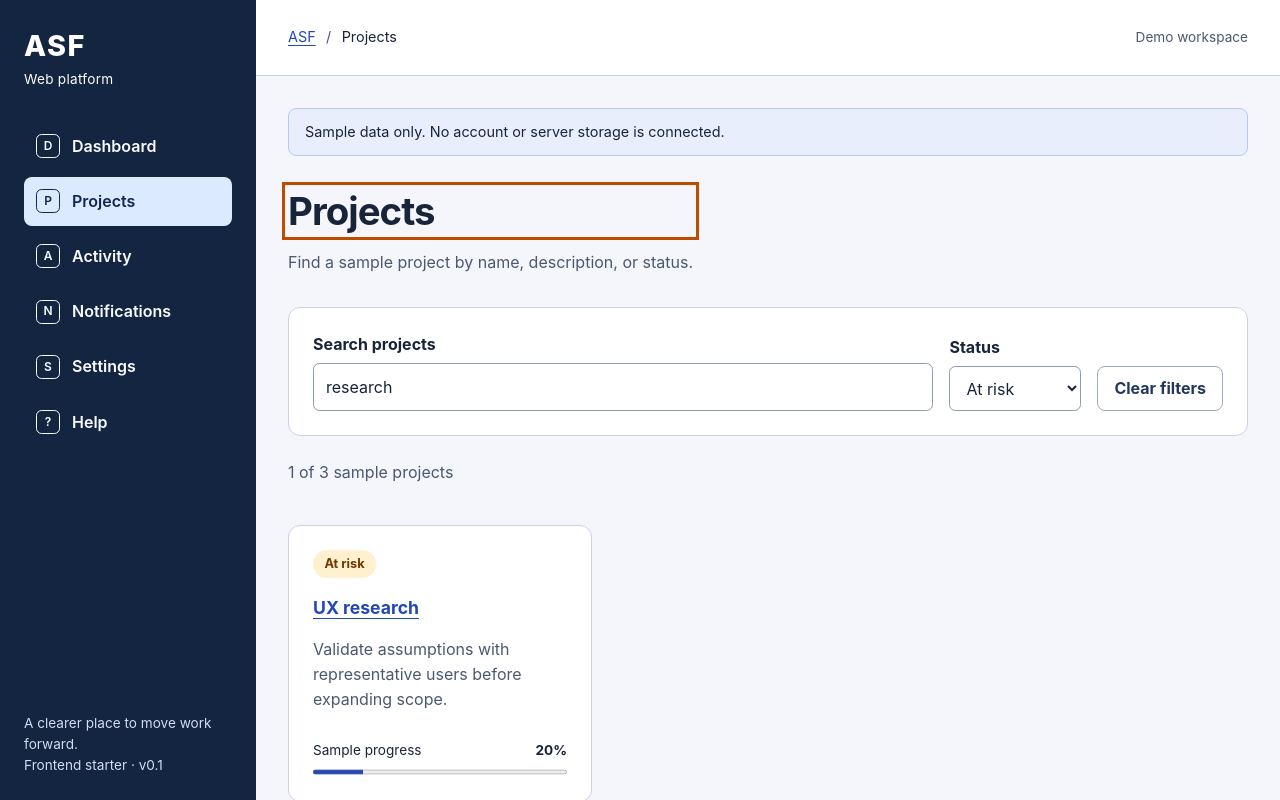
returns from project details to the filtered project URL
Click the link "UX research" at (366, 608), box [313,597,419,618]
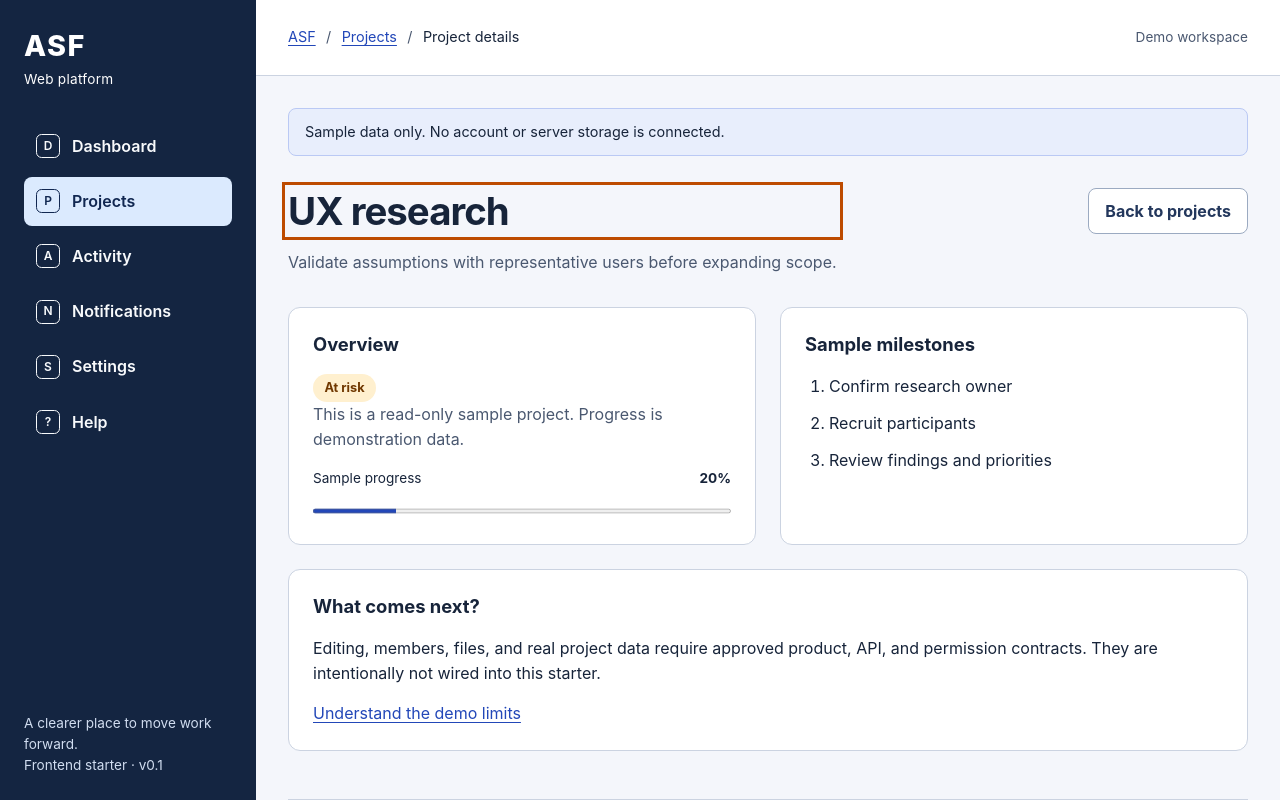
Click the link "Back to projects" at (1168, 211), box [1088,188,1248,234]
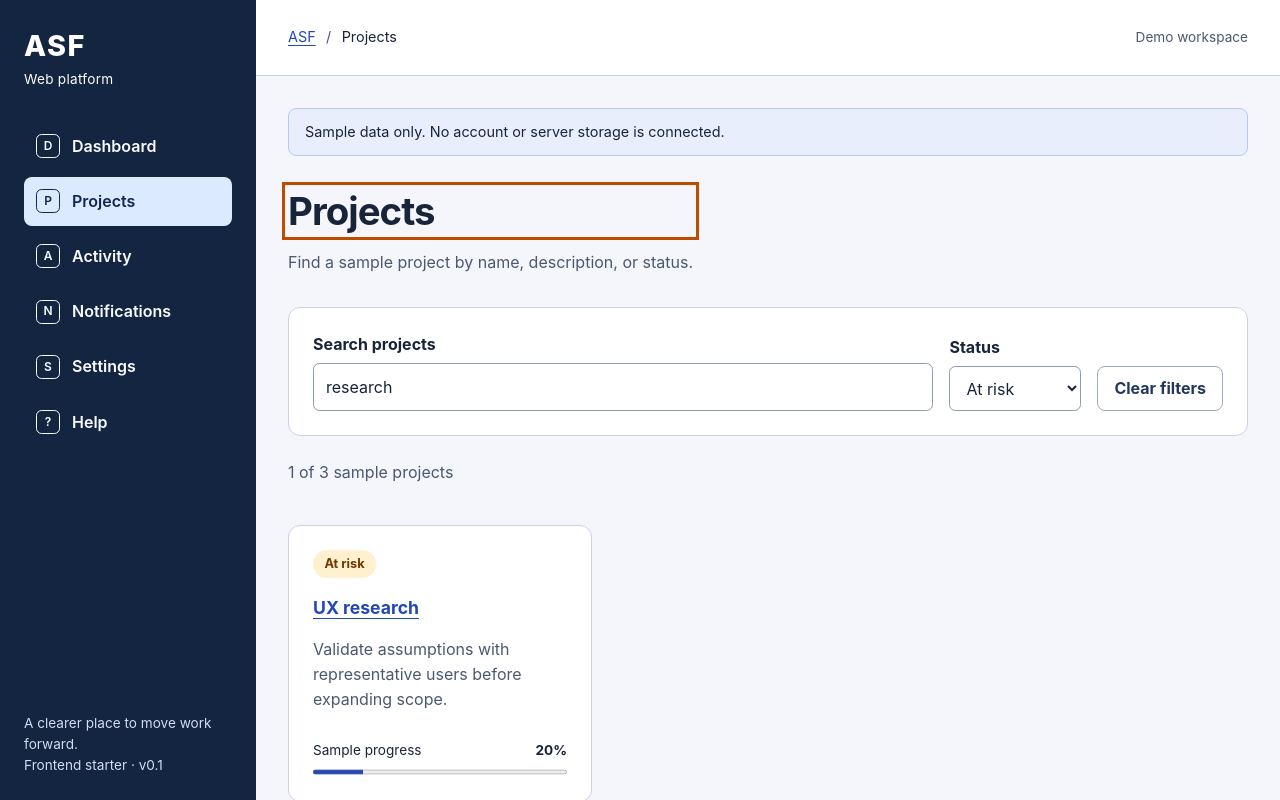
Check: the search field labelled "Search projects" holds "research", box [313,363,933,411]
Check: the dropdown labelled "Status" shows "At risk", box [949,366,1081,411]
Check: the message reads "1 of 3 sample projects", box [288,462,453,482]
